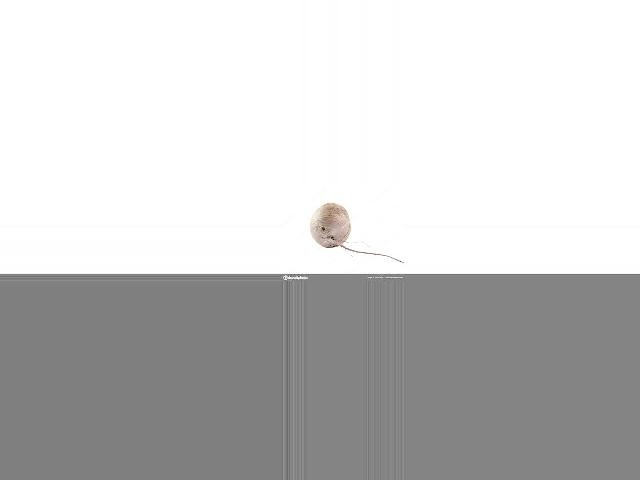beet: (310, 203, 404, 263)
